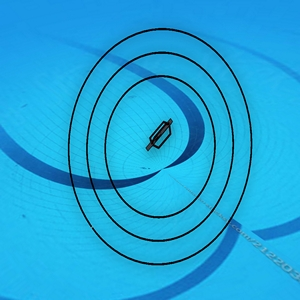circle: (69, 27, 251, 266)
submarine: (145, 118, 172, 146)
